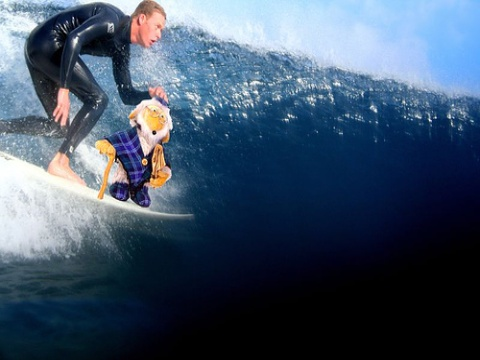hand: (52, 89, 73, 127), (147, 84, 171, 104)
